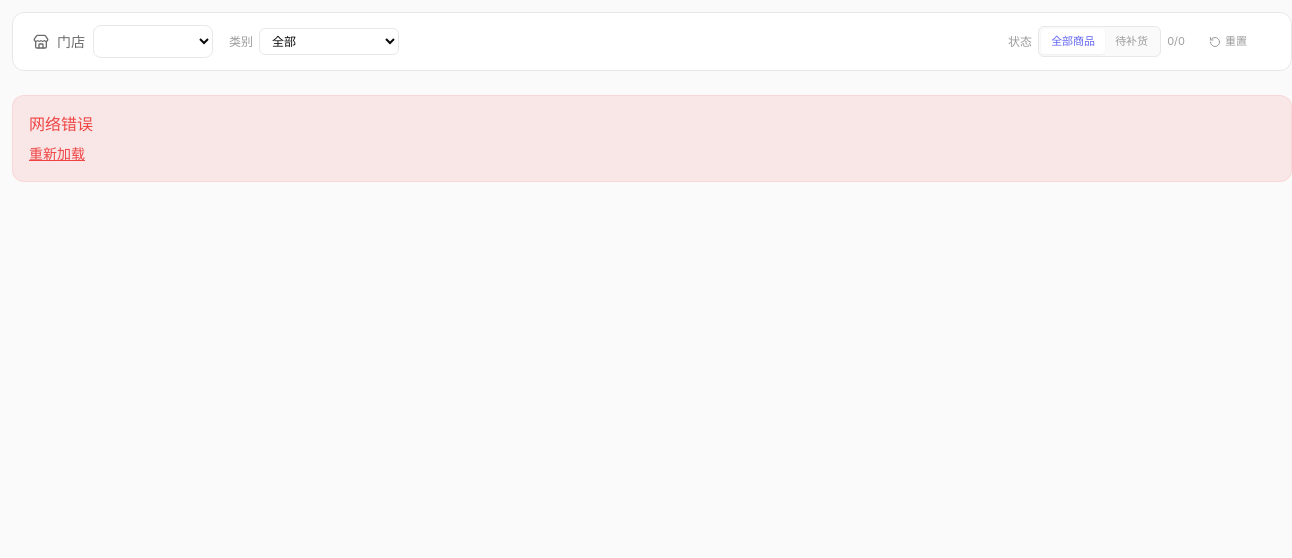
it: ReplenishmentPage › 加载失败时展示错误并可重试
This screenshot has width=1292, height=558.
Expected: the text "网络错误" is shown, [29,114,93,134]
Click the button "重新加载" at (57, 154), box [29,144,85,164]
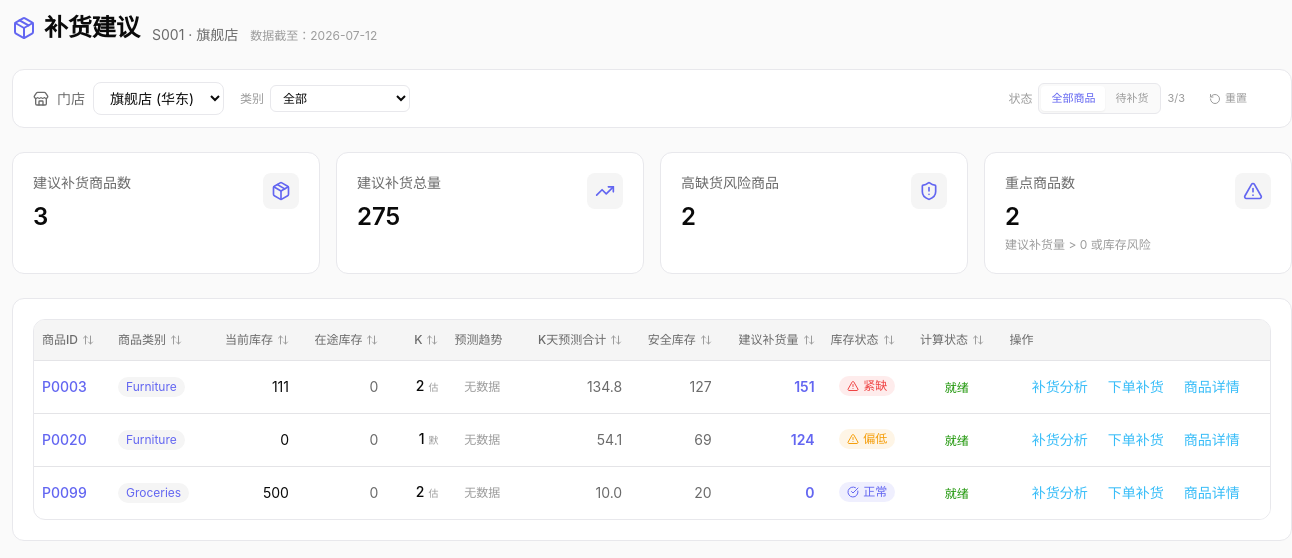
Expected: the number of buttons "下单补货" is 3, [1100,370,1172,402]; [1100,424,1172,456]; [1100,476,1172,508]
